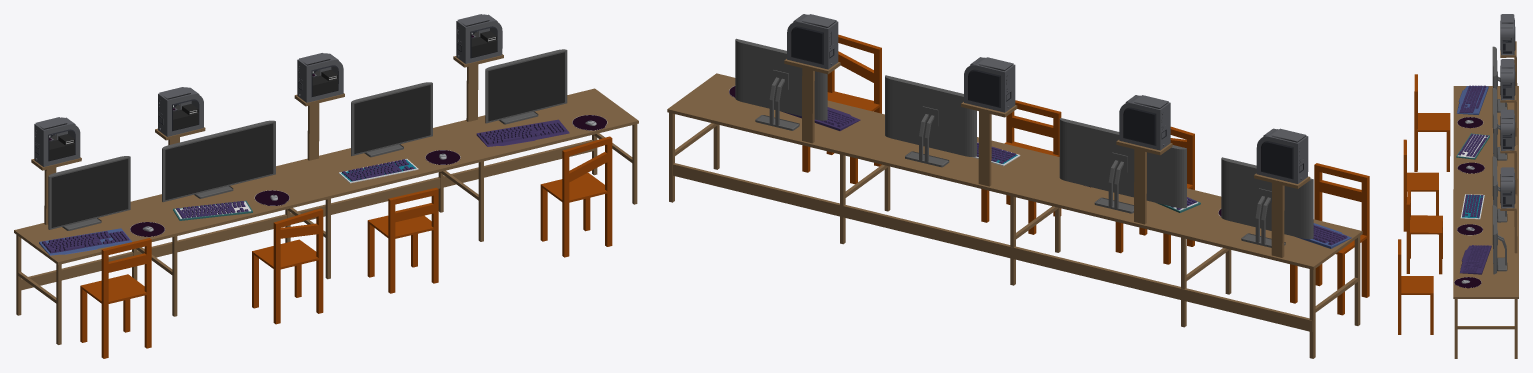
Rendered from Computer 3.fbx.
3 renders of one model, left to right at view 1: azimuth 30°, elevation 25°; view 2: azimuth 150°, elevation 25°; view 3: azimuth 270°, elevation 25°, orthographic. The views are drawn at different scales.
Visible parts, largest first — view 1: Cube.432, MonitorLCD.001, WoodenChair1, WoodenChair4, WoodenChair2, MonitorLCD, MonitorLCD.003, MonitorLCD.002, WoodenChair3, Keyboard1, Keyboard4, MonitorFrame.001 (+5 smaller); view 2: Cube.432, MonitorFrame.001, MonitorFrame.002, MonitorFrame.003, MonitorFrame, WoodenChair1, WoodenChair4, WoodenChair3, WoodenChair2, Keyboard1, Keyboard4; view 3: Cube.432, WoodenChair1, WoodenChair3, WoodenChair4, WoodenChair2, Keyboard4, Keyboard1, MonitorFrame.003, Keyboard2, Keyboard3, MonitorFrame.001, MonitorFrame.002 (+5 smaller).
Boxes of the visible parts, bbox=[...] form: Cube.432: bbox=[14, 14, 638, 344]; MonitorLCD.001: bbox=[165, 123, 273, 200]; WoodenChair1: bbox=[80, 238, 151, 358]; WoodenChair4: bbox=[540, 136, 612, 257]; WoodenChair2: bbox=[252, 208, 323, 324]; MonitorLCD: bbox=[51, 159, 127, 227]; MonitorLCD.003: bbox=[488, 52, 564, 121]; MonitorLCD.002: bbox=[354, 85, 430, 153]; WoodenChair3: bbox=[367, 187, 438, 293]; Keyboard1: bbox=[39, 228, 131, 255]; Keyboard4: bbox=[476, 119, 569, 146]; MonitorFrame.001: bbox=[162, 120, 275, 202]; Cube.432: bbox=[667, 14, 1362, 358]; MonitorFrame.001: bbox=[1059, 118, 1186, 213]; MonitorFrame.002: bbox=[885, 75, 976, 167]; MonitorFrame.003: bbox=[735, 38, 827, 130]; MonitorFrame: bbox=[1221, 157, 1313, 247]; WoodenChair1: bbox=[1290, 163, 1369, 315]; WoodenChair4: bbox=[802, 34, 881, 184]; WoodenChair3: bbox=[981, 100, 1061, 234]; WoodenChair2: bbox=[1115, 126, 1194, 264]; Keyboard1: bbox=[1296, 223, 1351, 248]; Keyboard4: bbox=[782, 107, 860, 130]; Cube.432: bbox=[1453, 14, 1518, 358]; WoodenChair1: bbox=[1414, 74, 1450, 171]; WoodenChair3: bbox=[1406, 187, 1442, 274]; WoodenChair4: bbox=[1398, 239, 1433, 334]; WoodenChair2: bbox=[1403, 139, 1438, 231]; Keyboard4: bbox=[1460, 245, 1491, 274]; Keyboard1: bbox=[1456, 85, 1488, 114]; MonitorFrame.003: bbox=[1492, 205, 1507, 274]; Keyboard2: bbox=[1456, 133, 1489, 159]; Keyboard3: bbox=[1460, 194, 1484, 219]; MonitorFrame.001: bbox=[1492, 88, 1507, 165]; MonitorFrame.002: bbox=[1492, 156, 1507, 222].
Bounding box in the file's own units: 3800 × 1184 × 921.
